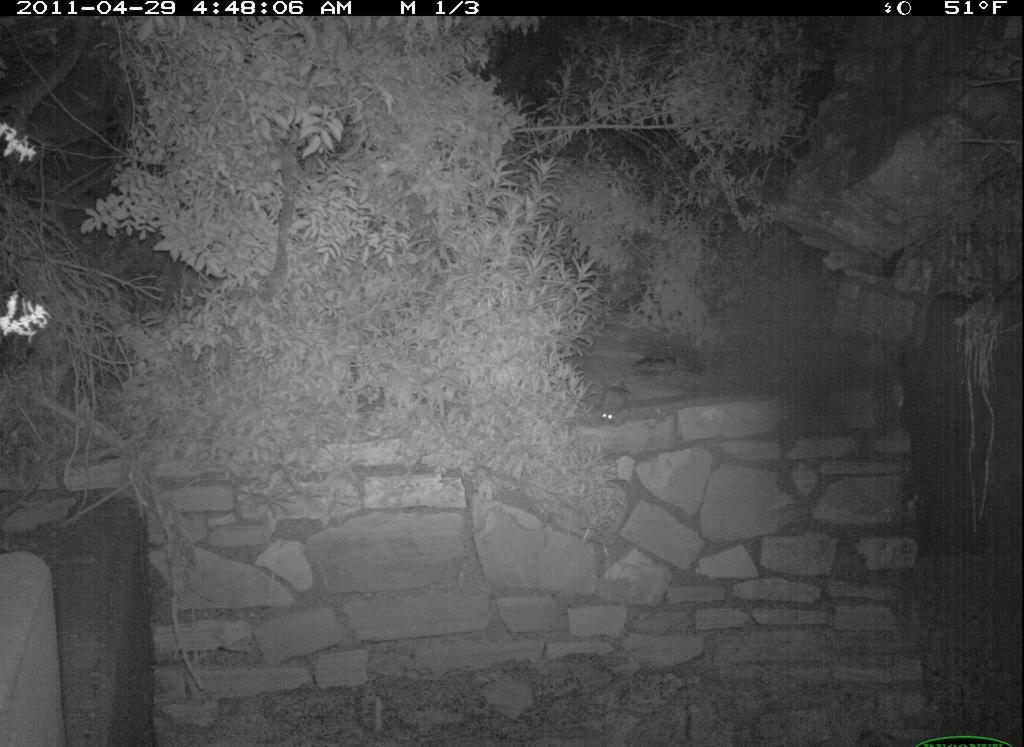rodent: (596, 381, 643, 428)
